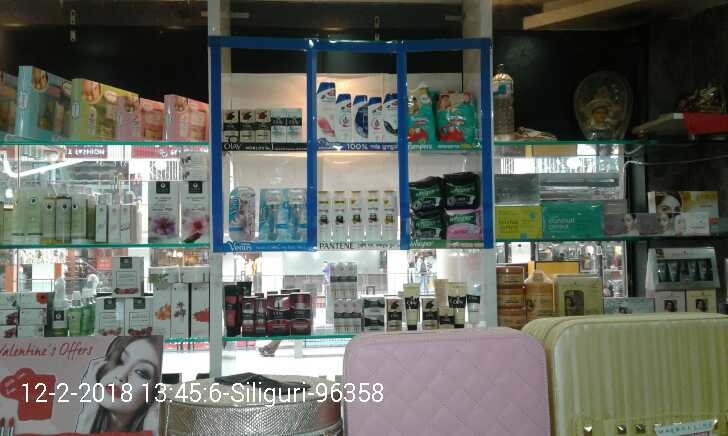venus: (278, 187, 307, 244), (229, 187, 257, 243), (257, 187, 278, 243)
